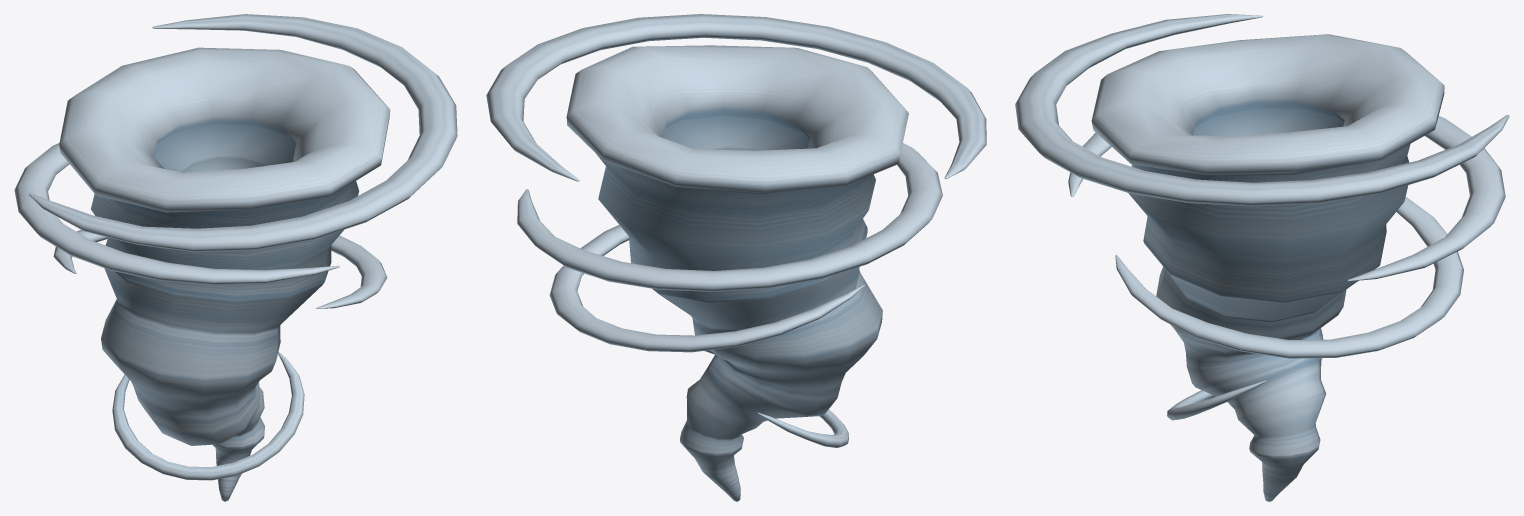
File: TornadoA.fbx
The picture shows the model from 3 angles, left to right: view 1: azimuth 30°, elevation 25°; view 2: azimuth 150°, elevation 25°; view 3: azimuth 270°, elevation 25°; orthographic projection. The views are drawn at different scales.
Visible parts, largest first — view 1: Tornado, Tornado.003, Tornado.002, Tornado.004, Tornado.001; view 2: Tornado, Tornado.003, Tornado.002, Tornado.001, Tornado.004; view 3: Tornado, Tornado.003, Tornado.001, Tornado.002, Tornado.004.
Part boxes in pixels (bbox=[...]): Tornado: bbox=[59, 47, 390, 501]; Tornado.003: bbox=[28, 14, 457, 252]; Tornado.002: bbox=[14, 143, 339, 284]; Tornado.004: bbox=[112, 351, 304, 480]; Tornado.001: bbox=[53, 229, 387, 308]; Tornado: bbox=[566, 45, 908, 501]; Tornado.003: bbox=[486, 14, 986, 181]; Tornado.002: bbox=[517, 143, 942, 291]; Tornado.001: bbox=[549, 225, 864, 352]; Tornado.004: bbox=[705, 350, 848, 447]; Tornado: bbox=[1091, 34, 1444, 501]; Tornado.003: bbox=[1015, 14, 1509, 206]; Tornado.001: bbox=[1115, 197, 1463, 358]; Tornado.002: bbox=[1068, 116, 1505, 281]; Tornado.004: bbox=[1167, 380, 1266, 420].
Bounding box in the file's own units: 288 × 270 × 284.
